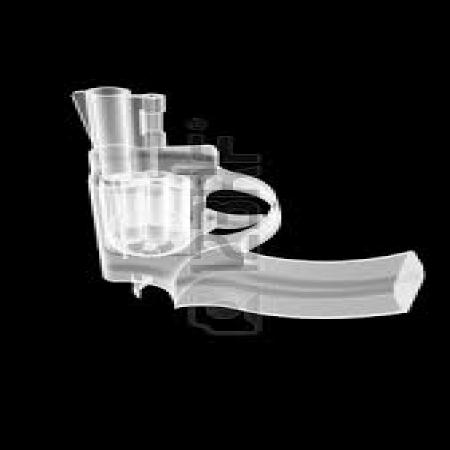Pistol: (59, 87, 423, 327)
